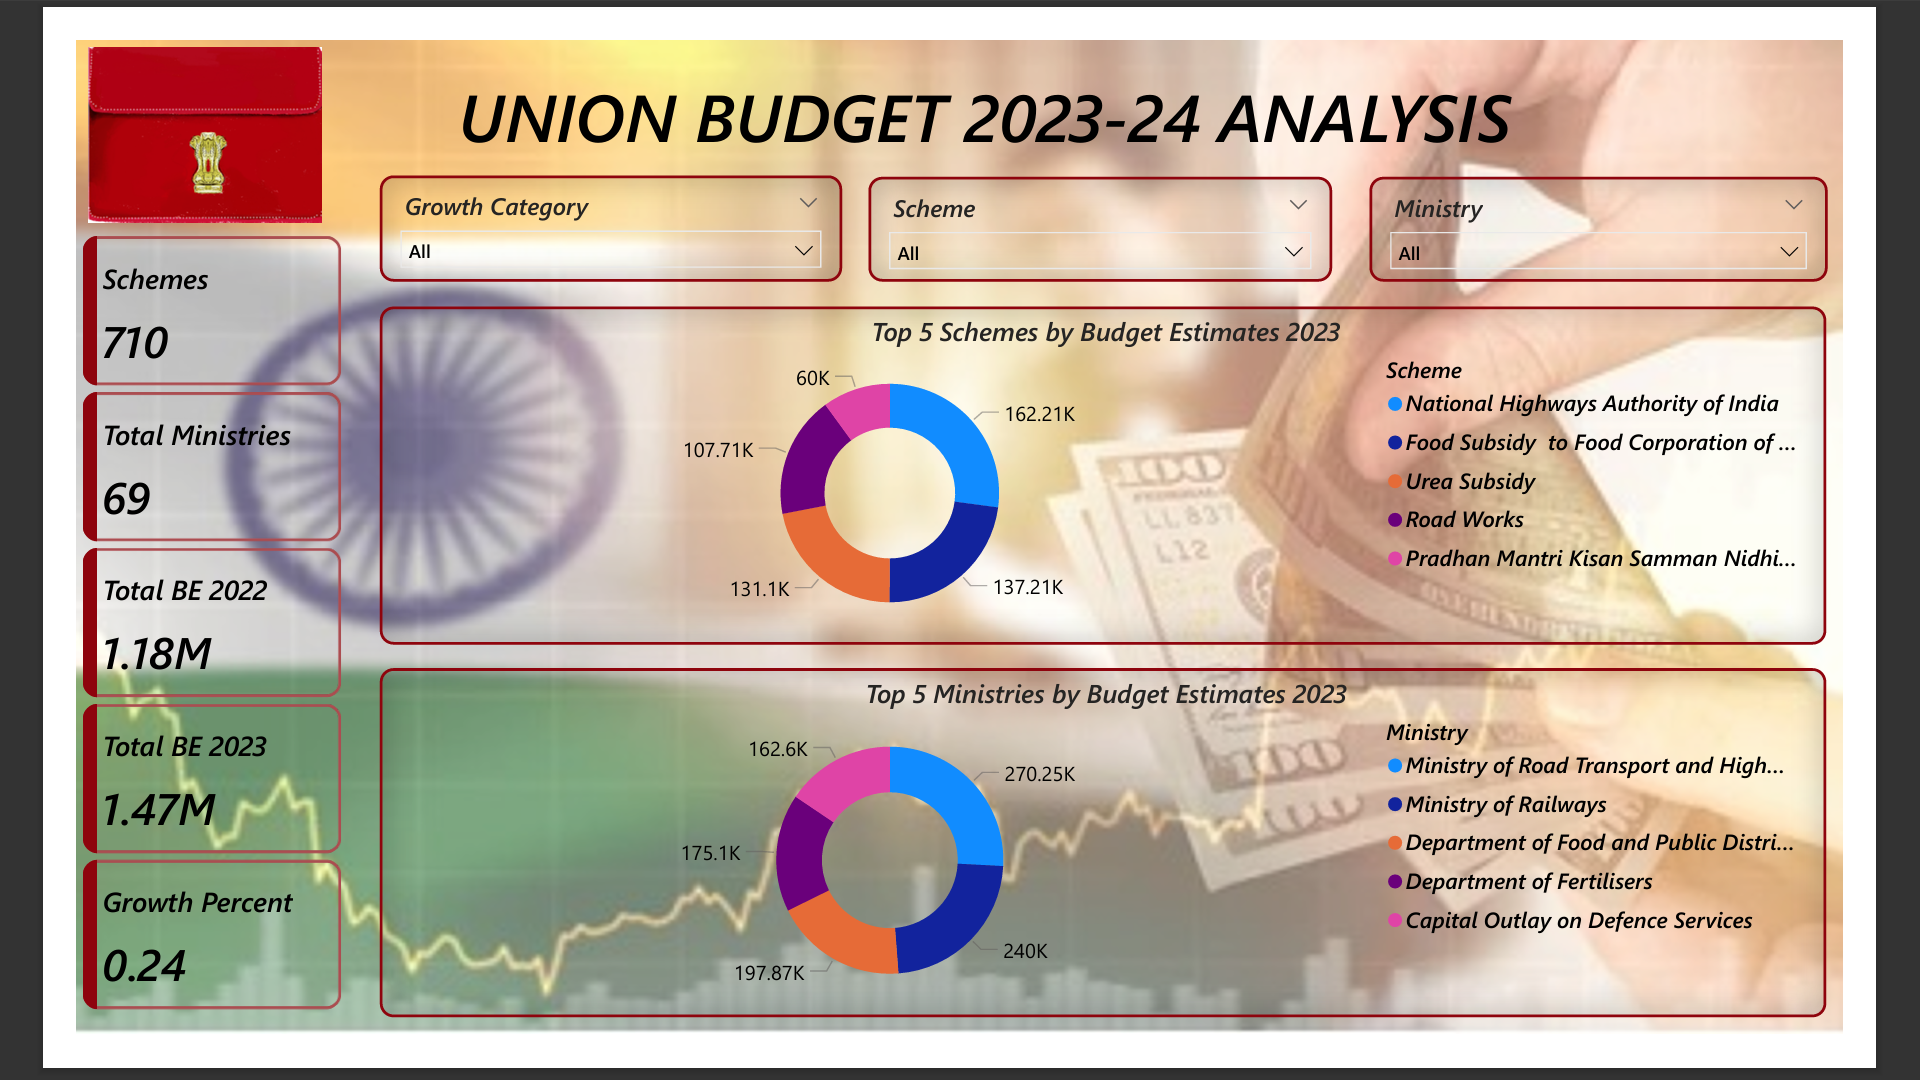

What the dashboard file says about the page in this screenshot:
{"tool":"powerbi","page":{"name":"Budget analysis","canvas":[1280,720],"ordinal":0},"visuals":[{"type":"textbox","box":[175,0,953.3,98.3],"z":0},{"type":"image","box":[0,0,186.1,136.8],"z":1000},{"type":"cardVisual","fields":{"Data":["Unionbudget_cleaned.Schemes","Unionbudget_cleaned.Total Ministries","Unionbudget_cleaned.Total BE 2022","Unionbudget_cleaned.Total BE 2023","Unionbudget_cleaned.Growth Percent"]},"box":[0,136.8,197.2,571],"z":2000},{"type":"slicer","fields":{"Values":["Unionbudget_cleaned.Scheme"]},"box":[574.2,98.6,335.6,76.3],"z":3000},{"type":"slicer","fields":{"Values":["Unionbudget_cleaned.Ministry"]},"box":[936.9,98.6,332.4,76.3],"z":4000},{"type":"slicer","fields":{"Values":["Unionbudget_cleaned.Growth Category"]},"box":[220,98.3,335,76.7],"z":5000},{"type":"donutChart","title":"Top 5 Ministries by Budget Estimates 2023","fields":{"Category":["Unionbudget_cleaned.Ministry"],"Y":["Unionbudget_cleaned.Total BE 2023"]},"box":[220,455,1048.3,253.3],"z":6000},{"type":"donutChart","title":"Top 5 Schemes by Budget Estimates 2023","fields":{"Y":["Unionbudget_cleaned.Total BE 2023"],"Category":["Unionbudget_cleaned.Scheme"]},"box":[220,193.3,1048.3,245],"z":7000}]}

Visuals, with their boxes in screenshot pixels (x1, y1, x2, y2), scaled from the page's 1280x720 canvas onto the 1920x1080 screenshot:
textbox: {"x1": 262, "y1": 0, "x2": 1692, "y2": 147}
image: {"x1": 0, "y1": 0, "x2": 279, "y2": 205}
cardVisual - Unionbudget_cleaned.Schemes x Unionbudget_cleaned.Total Ministries: {"x1": 0, "y1": 205, "x2": 296, "y2": 1062}
slicer - Unionbudget_cleaned.Scheme: {"x1": 861, "y1": 148, "x2": 1365, "y2": 262}
slicer - Unionbudget_cleaned.Ministry: {"x1": 1405, "y1": 148, "x2": 1904, "y2": 262}
slicer - Unionbudget_cleaned.Growth Category: {"x1": 330, "y1": 147, "x2": 832, "y2": 262}
"Top 5 Ministries by Budget Estimates 2023" donutChart: {"x1": 330, "y1": 682, "x2": 1902, "y2": 1062}
"Top 5 Schemes by Budget Estimates 2023" donutChart: {"x1": 330, "y1": 290, "x2": 1902, "y2": 657}
